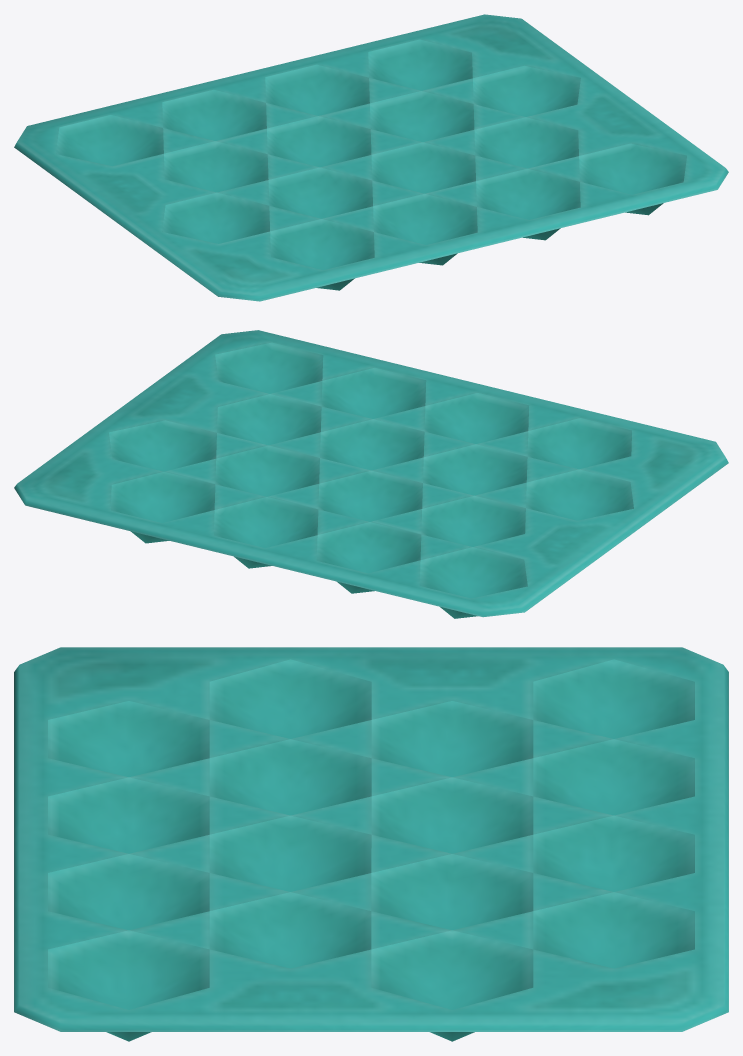
File: jsf_CushioningMaterial.fbx
3 views of the same model, one above another, from view 1: azimuth 30°, elevation 25°; view 2: azimuth 150°, elevation 25°; view 3: azimuth 270°, elevation 25° (orthographic). The views are drawn at different scales.
Visible parts, largest first — view 1: jsf_CushioningMaterial; view 2: jsf_CushioningMaterial; view 3: jsf_CushioningMaterial.
Boxes of the visible parts, <box> form: jsf_CushioningMaterial: <box>14,14,728,301</box>; jsf_CushioningMaterial: <box>14,330,728,618</box>; jsf_CushioningMaterial: <box>14,647,728,1041</box>.
Bounding box in the file's own units: 32.6 × 2.03 × 25.96.
